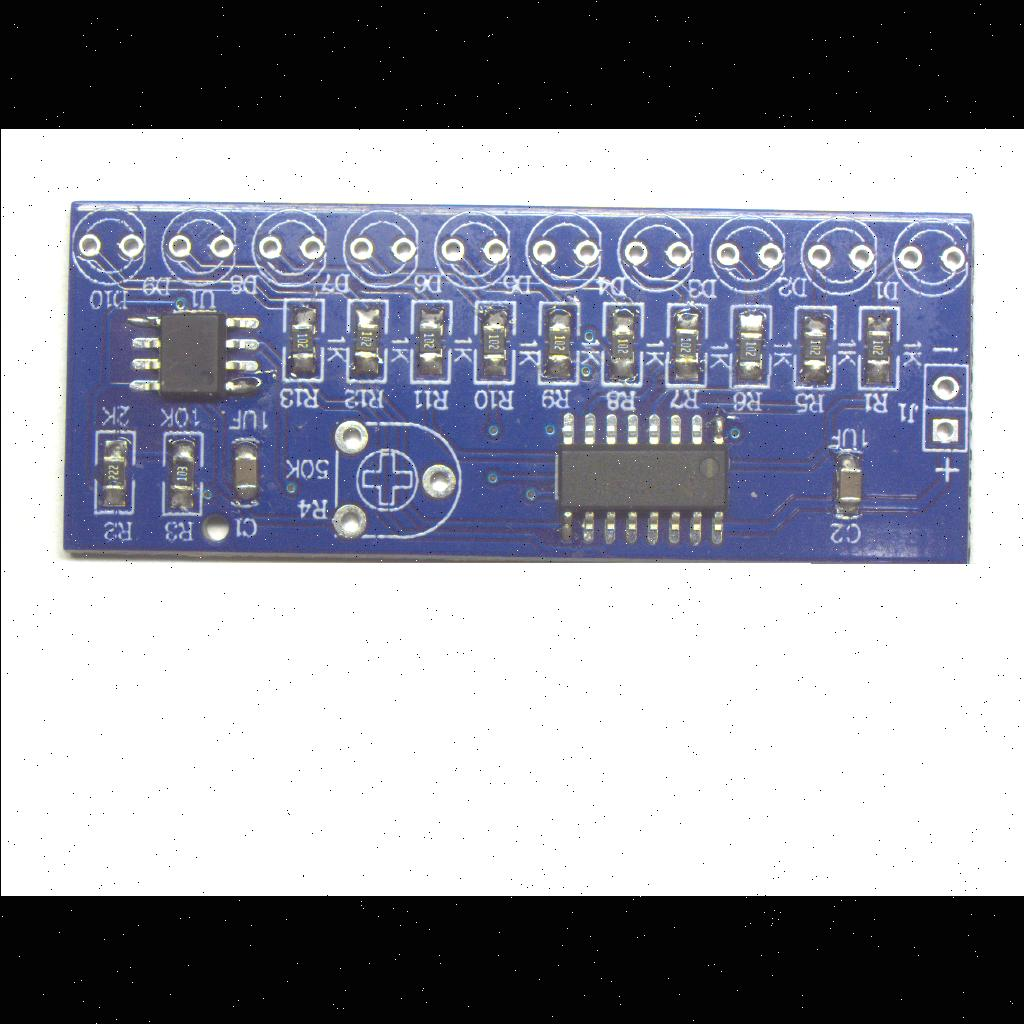OK: (546, 402, 734, 554), (114, 304, 268, 404), (469, 296, 517, 388), (726, 300, 774, 390), (598, 298, 646, 388), (90, 426, 138, 514), (158, 428, 204, 518), (791, 302, 837, 392), (854, 303, 900, 393), (535, 298, 581, 388), (280, 296, 326, 384), (344, 295, 388, 385), (664, 301, 708, 391), (408, 295, 452, 385), (224, 434, 264, 512), (828, 446, 864, 522)
